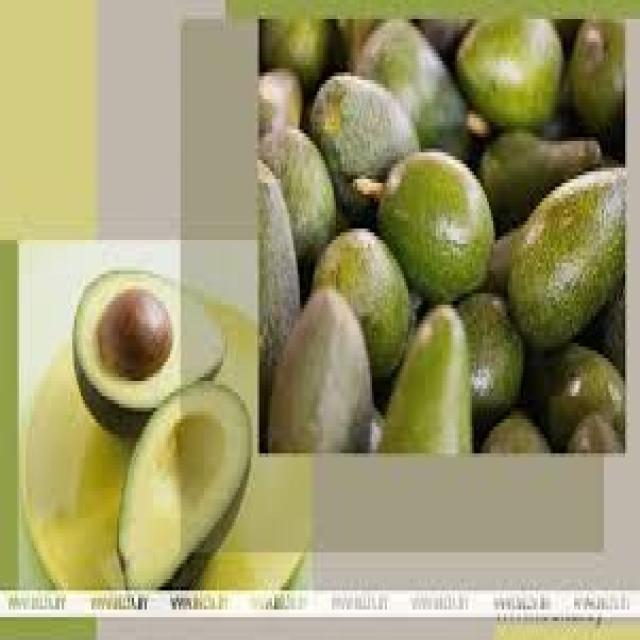avocado: (94, 402, 256, 600), (62, 245, 241, 405), (346, 140, 492, 287), (505, 153, 614, 345), (389, 278, 491, 478), (290, 265, 374, 462), (466, 4, 576, 150), (308, 42, 417, 185), (249, 132, 313, 353), (355, 15, 482, 121)
